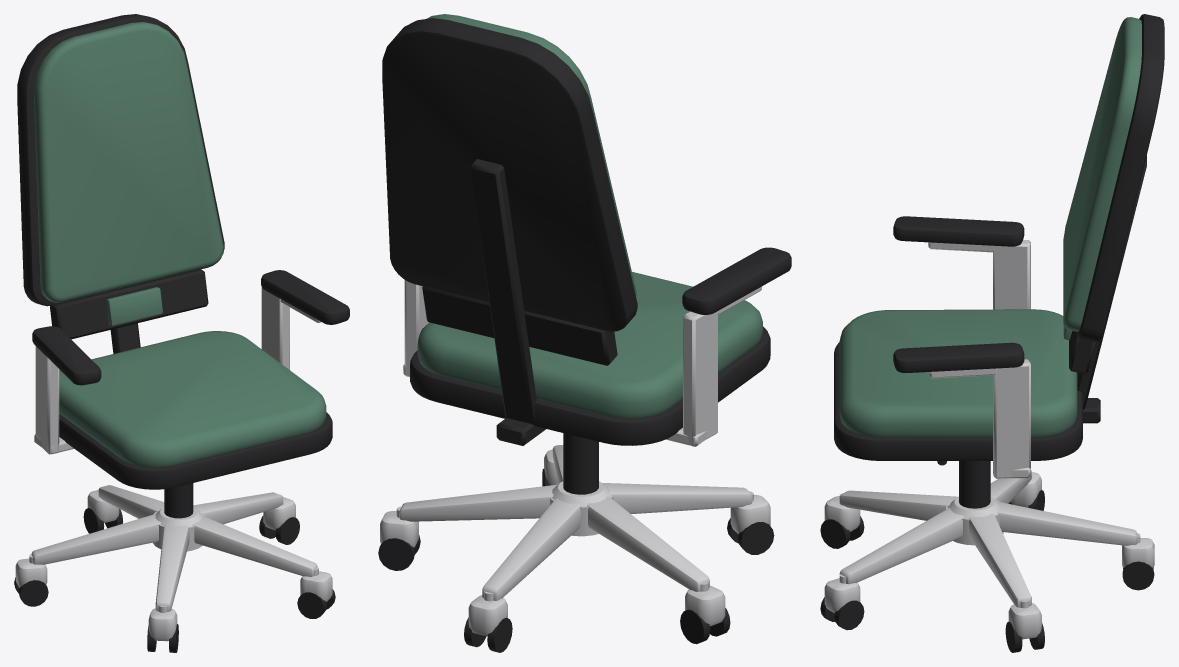
File: SM_OfficeChair.fbx
The picture shows the model from 3 angles, left to right: view 1: azimuth 30°, elevation 25°; view 2: azimuth 150°, elevation 25°; view 3: azimuth 270°, elevation 25°; orthographic projection. The views are drawn at different scales.
Visible parts, largest first — view 1: SM_OfficeChair; view 2: SM_OfficeChair; view 3: SM_OfficeChair.
Part boxes in pixels (bbox=[...]): SM_OfficeChair: bbox=[14, 14, 349, 652]; SM_OfficeChair: bbox=[378, 14, 791, 652]; SM_OfficeChair: bbox=[820, 14, 1164, 652].
Bounding box in the file's own units: 75.3 × 130 × 73.84.
